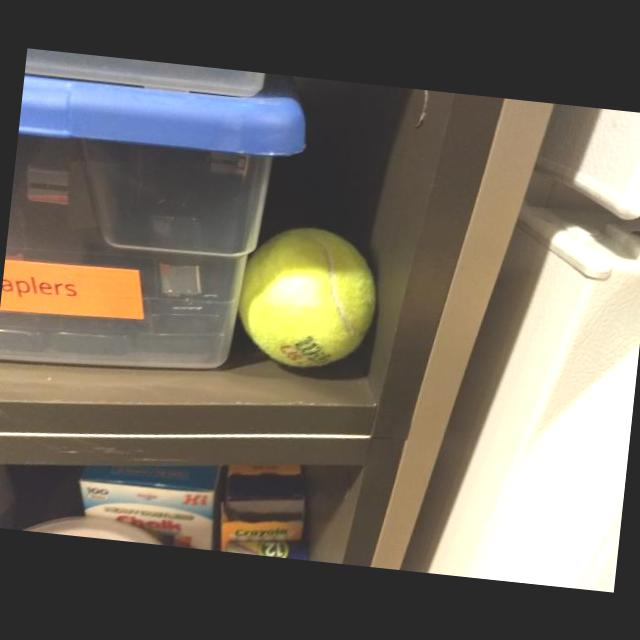tennis-ball: (230, 220, 385, 378)
